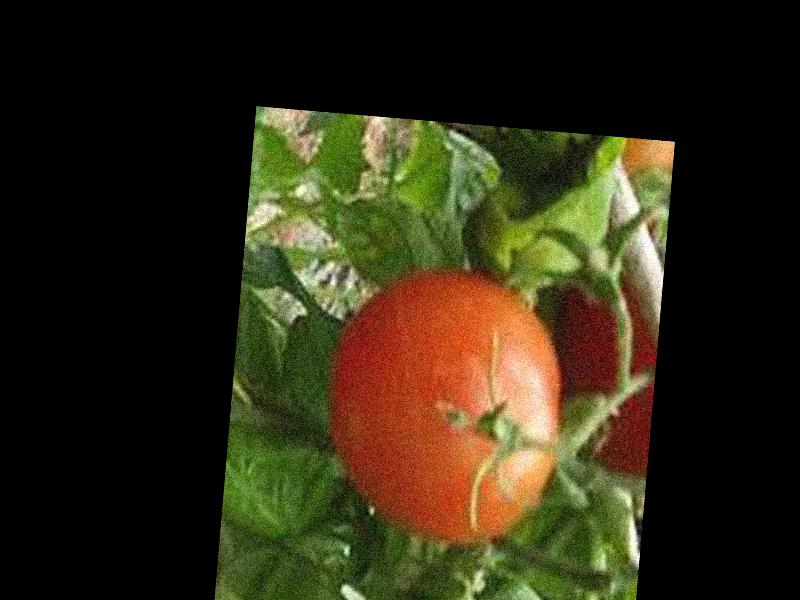Tomato: (325, 265, 572, 548)
